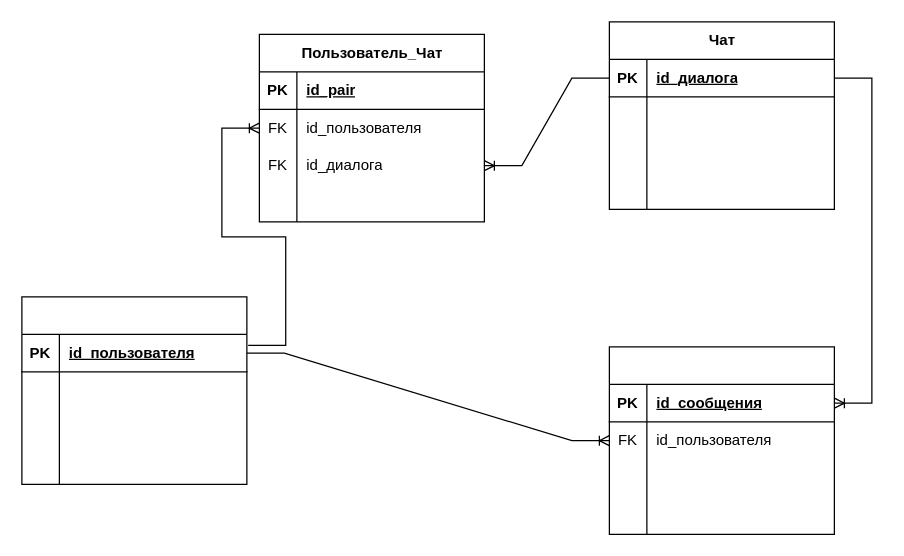
The diagram is 904 pixels wide and 556 high, and some of its shapes have lost their labels. The shapes that lost their labels are listed below. From the top down, each one's box as (x1, y1, x2, y2) in pixels, then its label:
(21, 296, 247, 484): Пользователь
(608, 346, 834, 534): Сообщение
